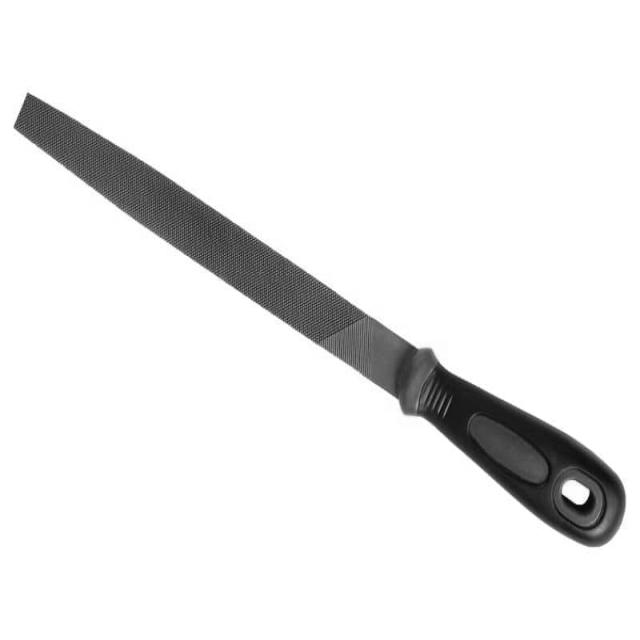file: (0, 72, 640, 594)
